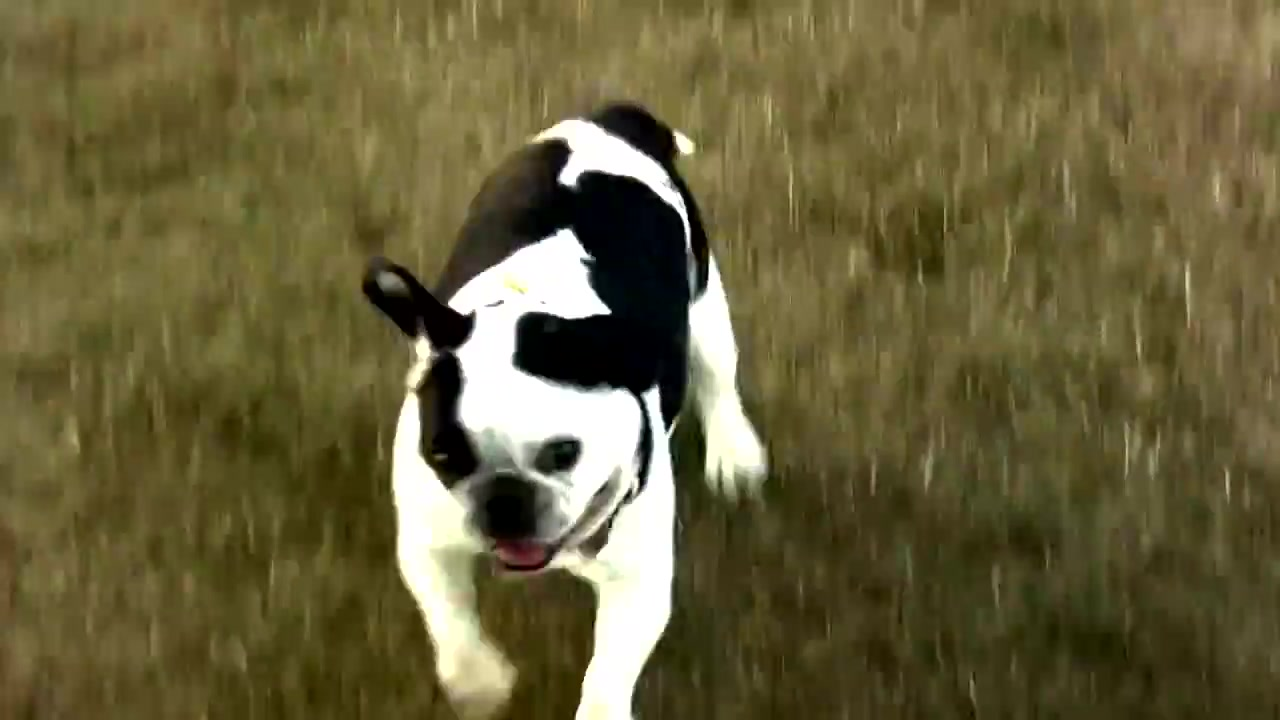dog: (360, 96, 772, 717)
